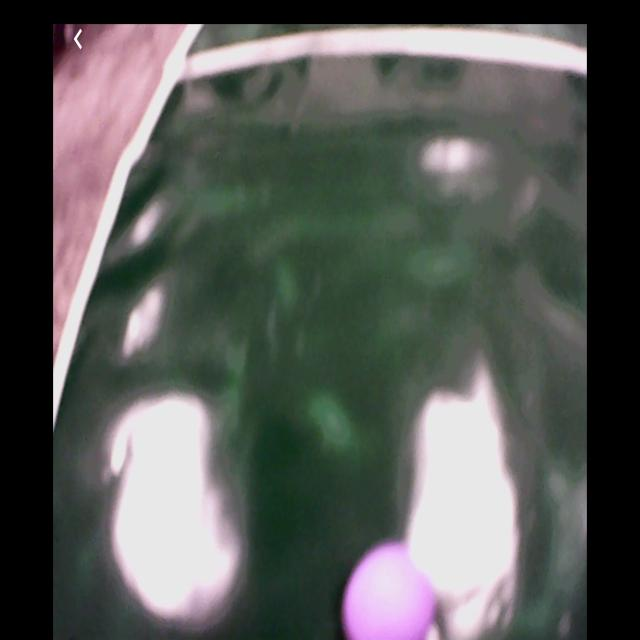ball: (341, 540, 438, 639)
